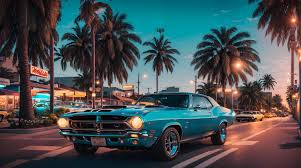car: (58, 91, 233, 161)
